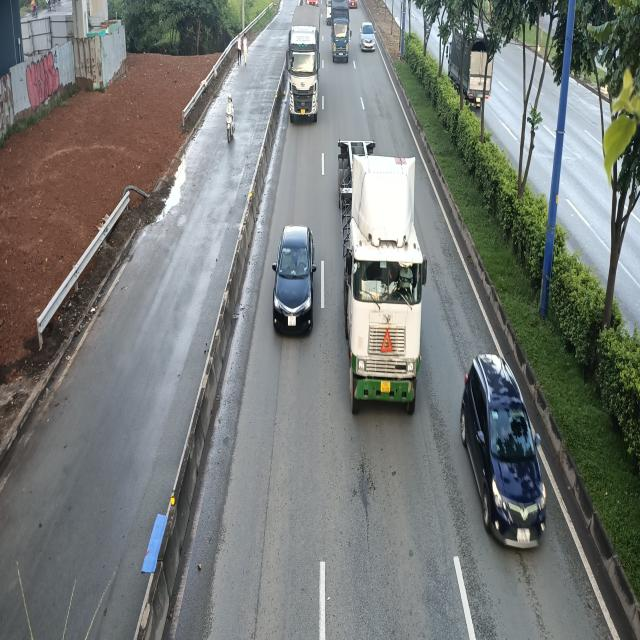car: (462, 350, 546, 546), (272, 225, 317, 338), (358, 22, 376, 52)
container: (337, 136, 427, 412), (286, 4, 322, 124)
truck: (331, 0, 351, 63)
